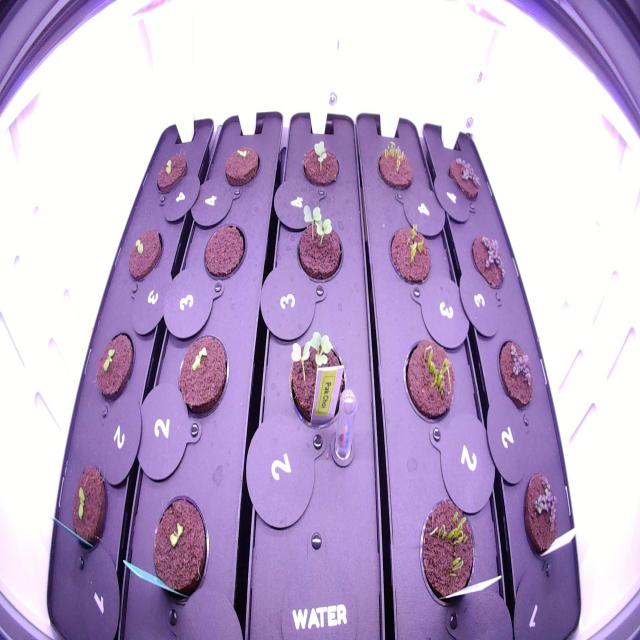germination: (146, 482, 212, 613), (414, 488, 480, 617), (279, 326, 356, 436), (172, 326, 234, 430), (399, 328, 458, 431), (63, 460, 117, 565), (290, 194, 348, 291), (517, 460, 562, 573), (91, 322, 140, 413), (384, 212, 436, 294), (492, 329, 538, 416), (369, 130, 423, 202), (464, 223, 511, 298), (296, 131, 346, 200), (124, 221, 168, 289), (442, 148, 487, 208), (218, 137, 264, 195), (149, 143, 194, 200)
pod: (199, 213, 249, 286)
